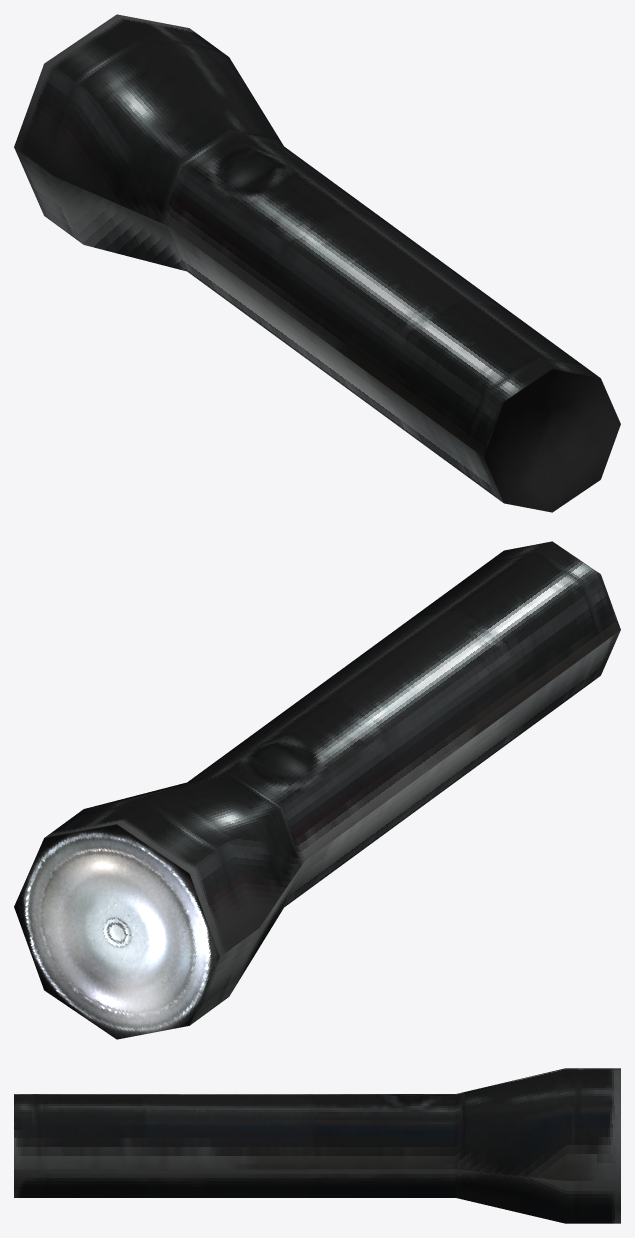
The model's file is FlashLight.glb.
3 views of the same model, one above another, from view 1: azimuth 30°, elevation 25°; view 2: azimuth 150°, elevation 25°; view 3: azimuth 270°, elevation 25° (orthographic). The views are drawn at different scales.
Parts seen in each view (by area): view 1: Cylinder; view 2: Cylinder; view 3: Cylinder.
Boxes of the visible parts, left/top/right/bottom form: Cylinder: left=14, top=14, right=620, bottom=512; Cylinder: left=14, top=541, right=620, bottom=1039; Cylinder: left=14, top=1068, right=620, bottom=1223.
Size of the model in its own units: 0.0719 by 0.0719 by 0.2635.
1 material, 1 textured.
